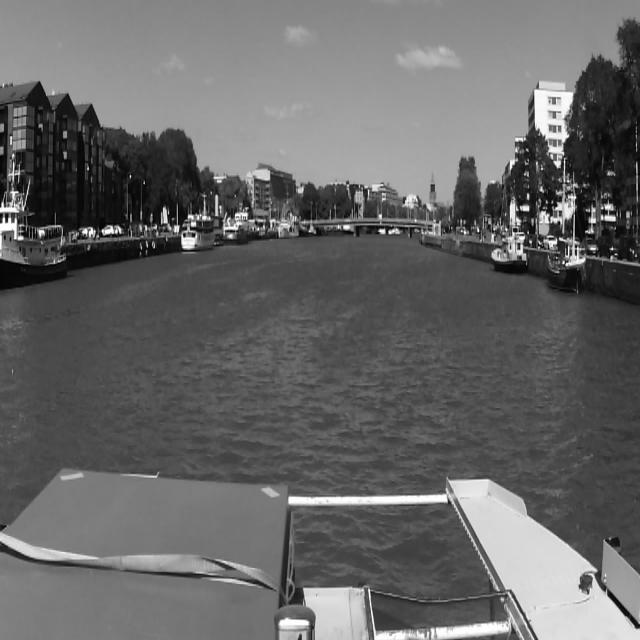ship: (0, 189, 68, 287), (545, 227, 589, 300), (490, 237, 528, 273), (183, 215, 216, 252), (222, 224, 248, 245)
